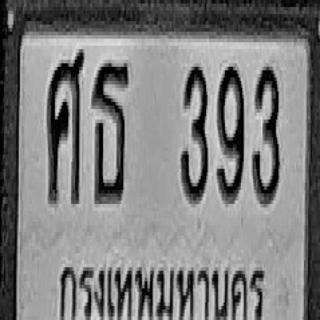A24: (91, 60, 128, 204)
A38: (47, 49, 83, 204)
N03: (252, 63, 280, 204), (181, 63, 208, 200)
N09: (217, 63, 244, 200)
P04: (51, 251, 272, 320)
